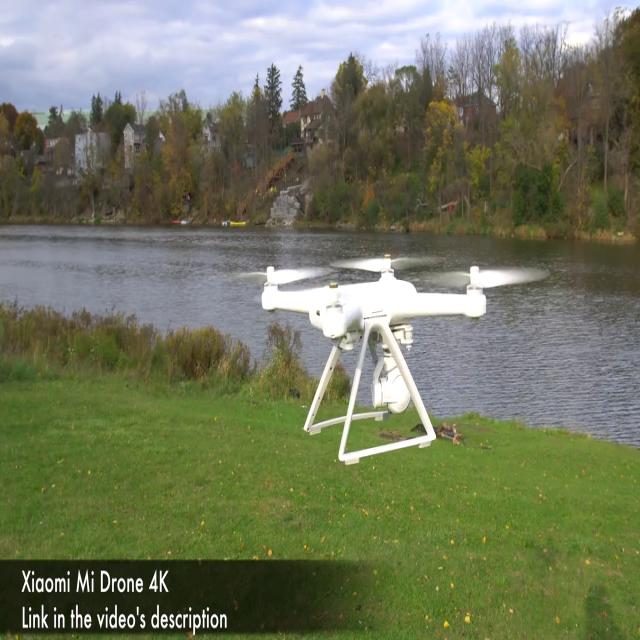drone: (240, 238, 546, 491)
